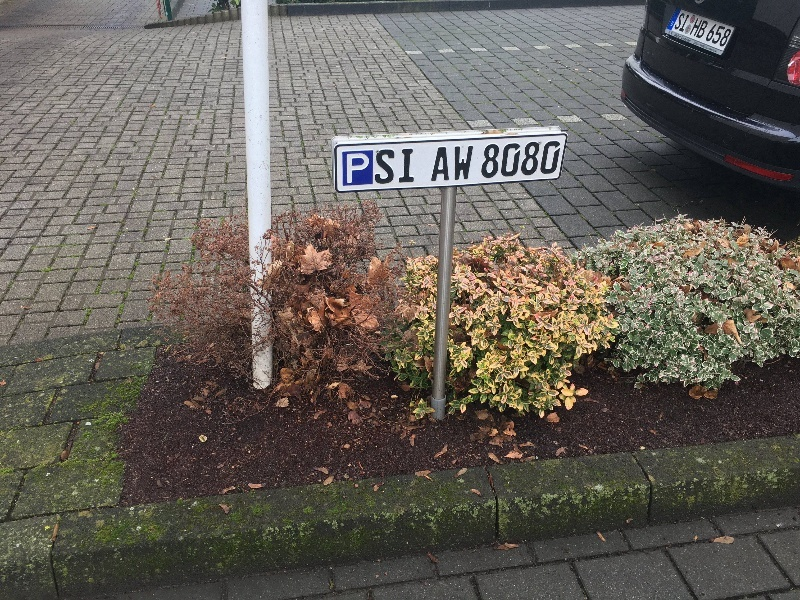text: (401, 147, 417, 186), (449, 144, 464, 184), (497, 141, 512, 180), (513, 141, 528, 180), (529, 141, 544, 180), (545, 141, 560, 180), (385, 147, 400, 186), (482, 141, 496, 180), (436, 144, 448, 184), (353, 153, 368, 185), (465, 144, 476, 184), (721, 22, 734, 48), (376, 147, 384, 186), (712, 22, 720, 48), (346, 153, 352, 185), (705, 41, 718, 54), (697, 17, 704, 40), (681, 12, 688, 34), (694, 41, 704, 54), (705, 17, 710, 40), (369, 153, 372, 185), (675, 33, 688, 39), (689, 12, 691, 34), (682, 36, 688, 43), (561, 141, 562, 180), (689, 36, 693, 43)
